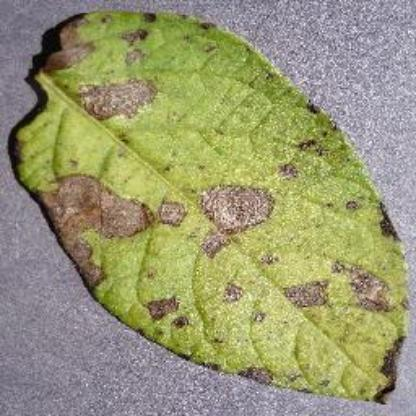Early-Blight: (11, 9, 401, 405)
